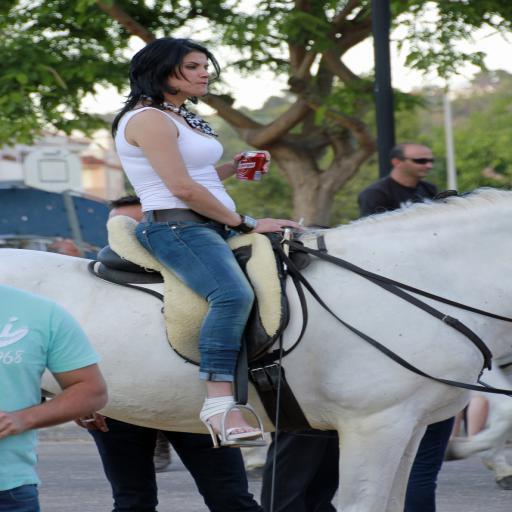horse: (0, 186, 512, 512), (242, 360, 512, 491)
